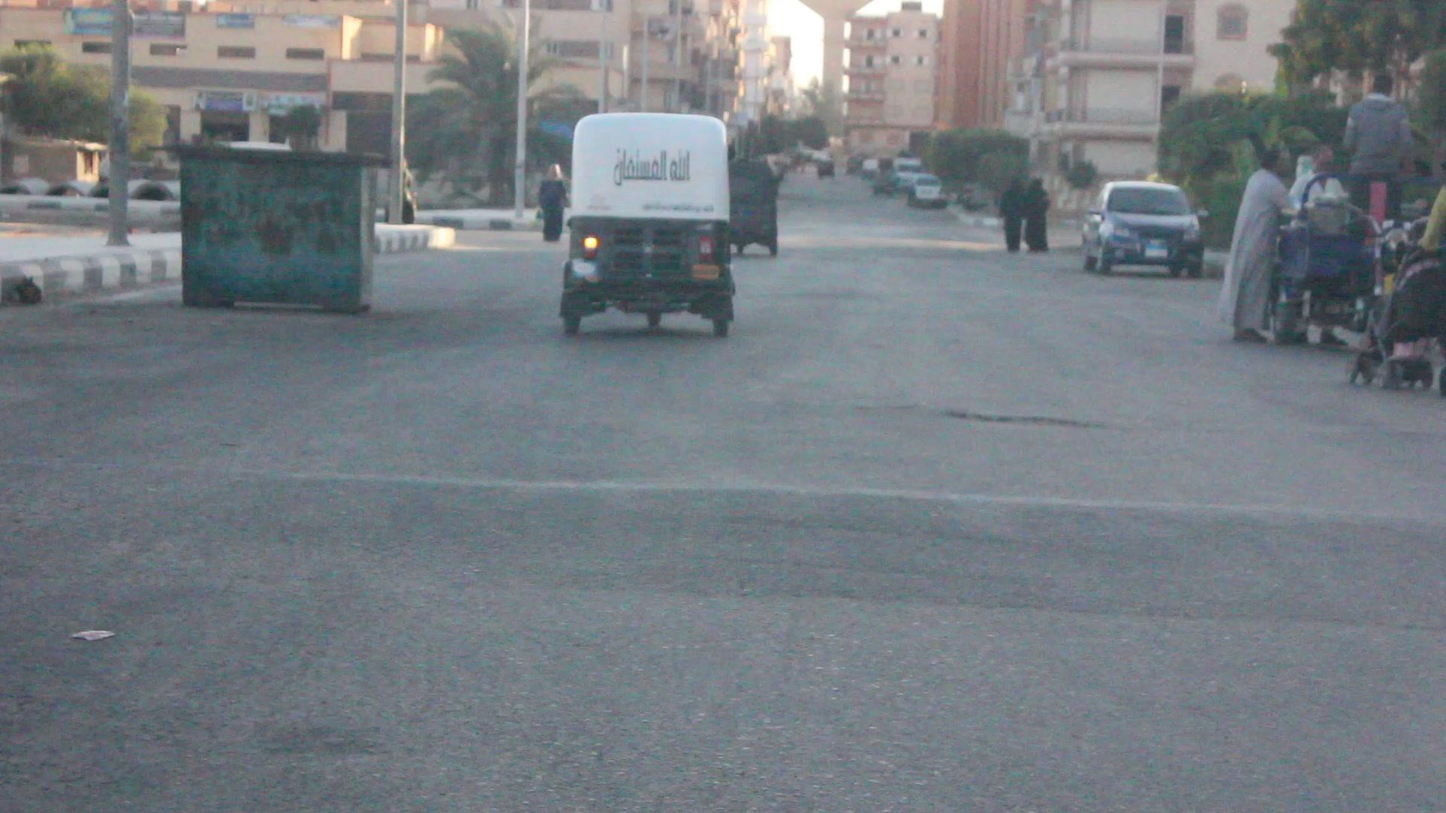Bump: (2, 437, 1438, 664)
